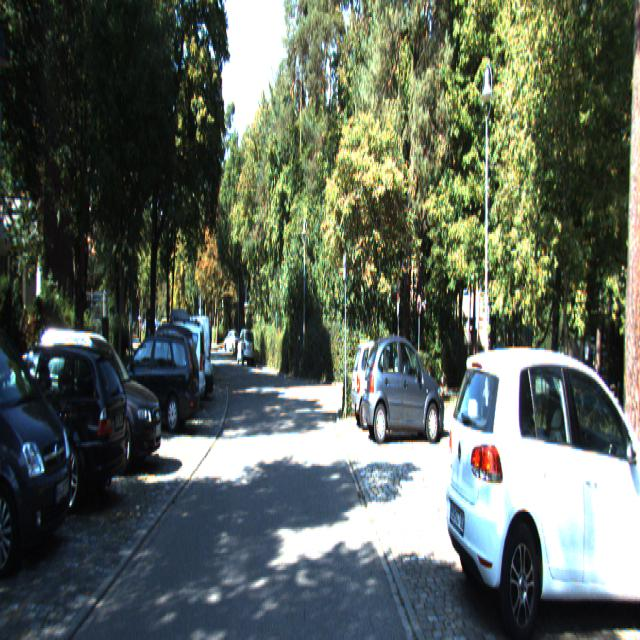Car: (438, 334, 640, 638), (0, 339, 132, 525), (0, 292, 83, 566), (26, 313, 166, 465), (107, 325, 201, 436), (362, 322, 444, 440), (349, 333, 420, 432), (136, 314, 207, 410), (236, 328, 255, 367)
